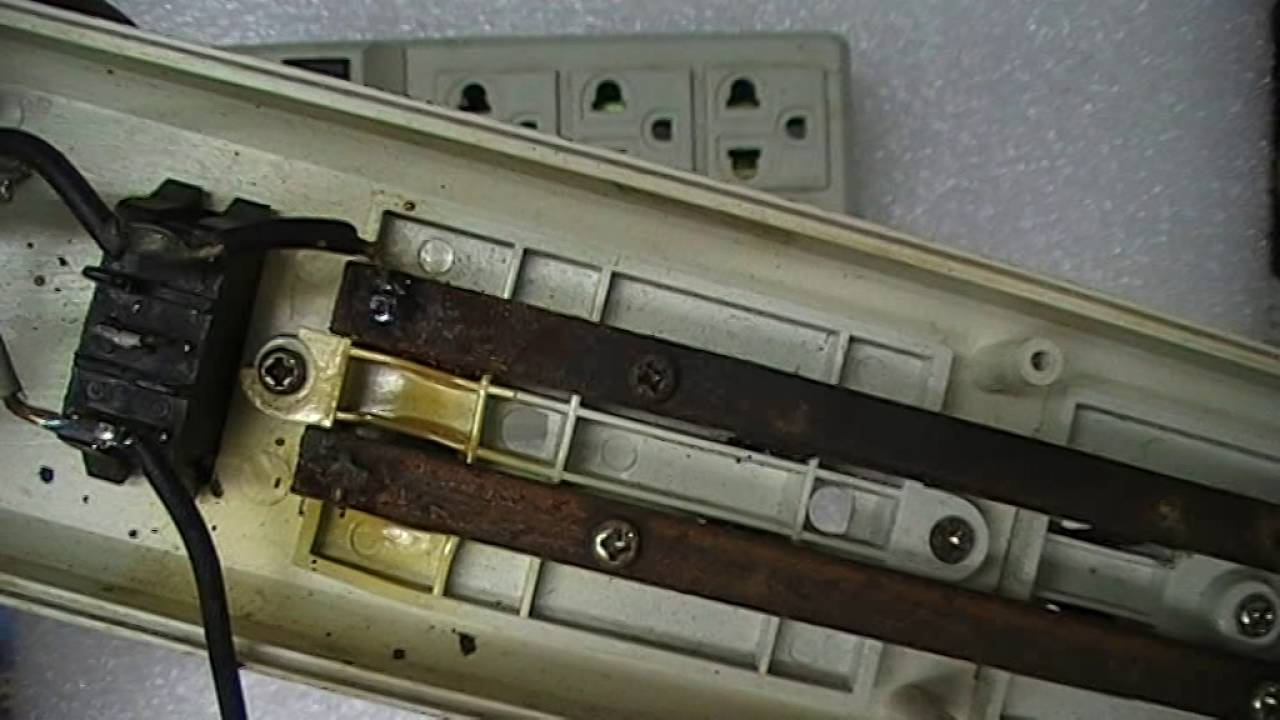Three_eye_plug: (1, 1, 1280, 720), (233, 22, 863, 230)
